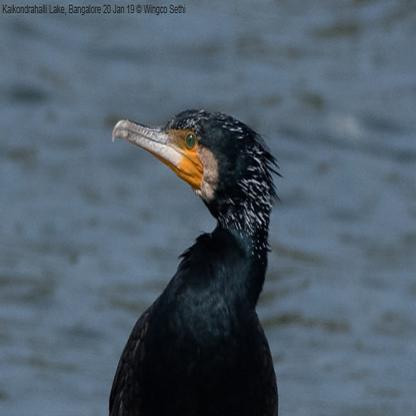Burung: (108, 108, 280, 415)
